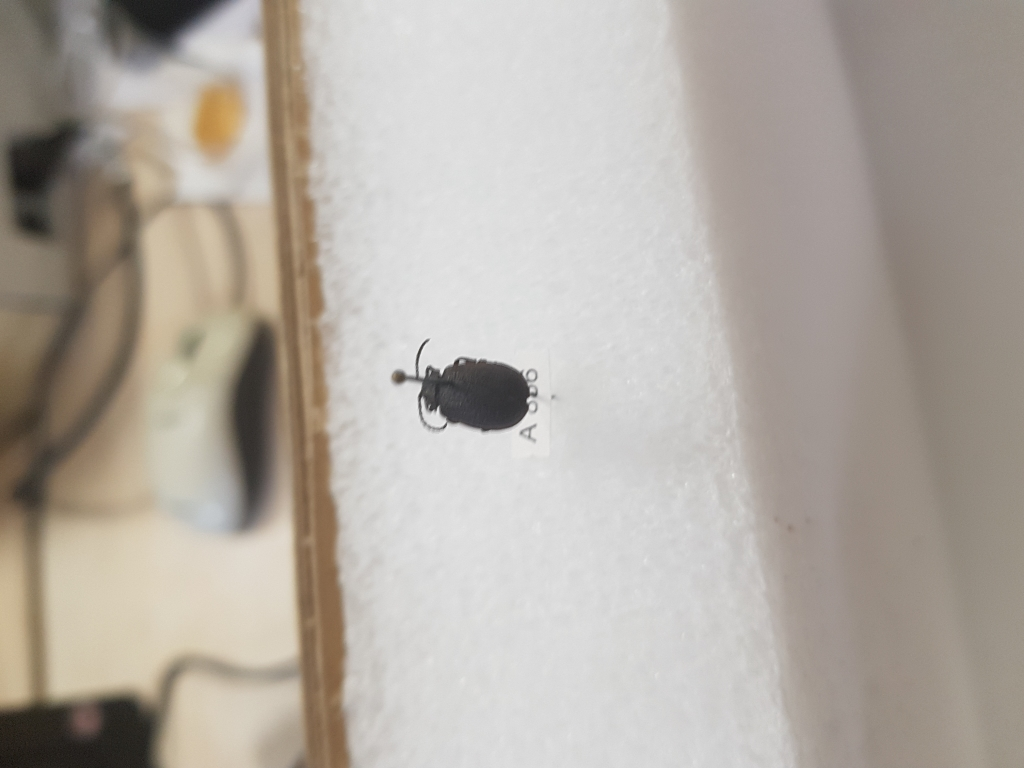Galeruca_tanaceti: (406, 337, 531, 433)
